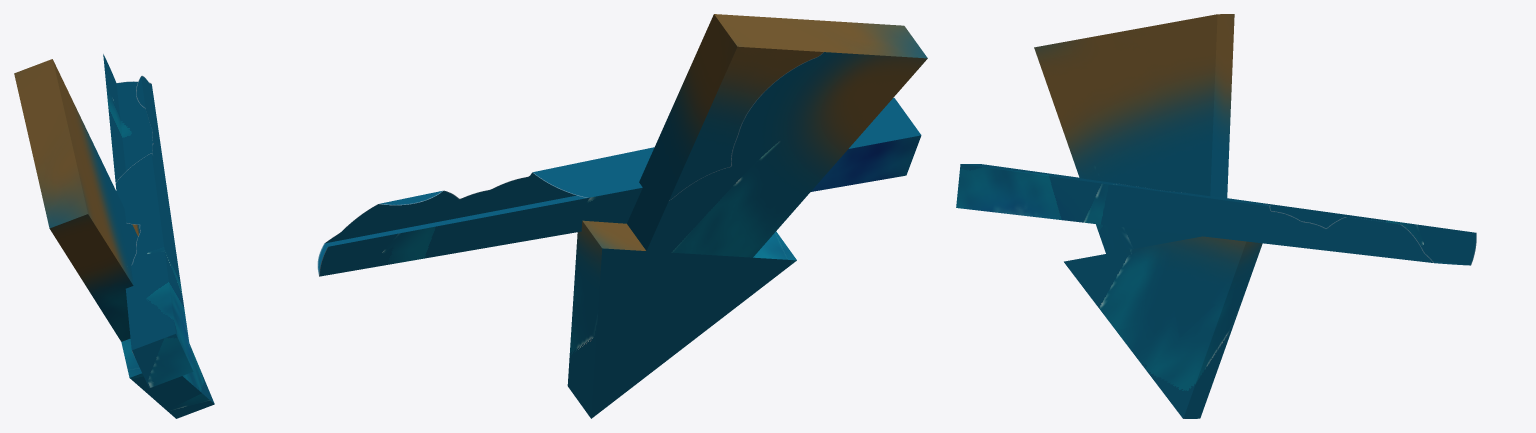
The model's file is letrero copia.obj.
The picture shows the model from 3 angles, left to right: view 1: azimuth 30°, elevation 25°; view 2: azimuth 150°, elevation 25°; view 3: azimuth 270°, elevation 25°; orthographic projection. The views are drawn at different scales.
Bounding box in the file's own units: 305 × 326 × 474.
1 material, 1 textured.
